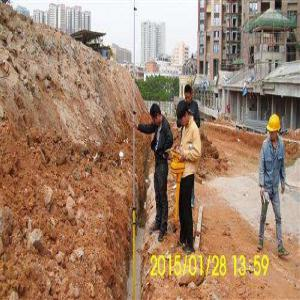none: (176, 100, 190, 128), (150, 101, 163, 128), (184, 84, 194, 105)
yellow: (267, 113, 282, 144)
